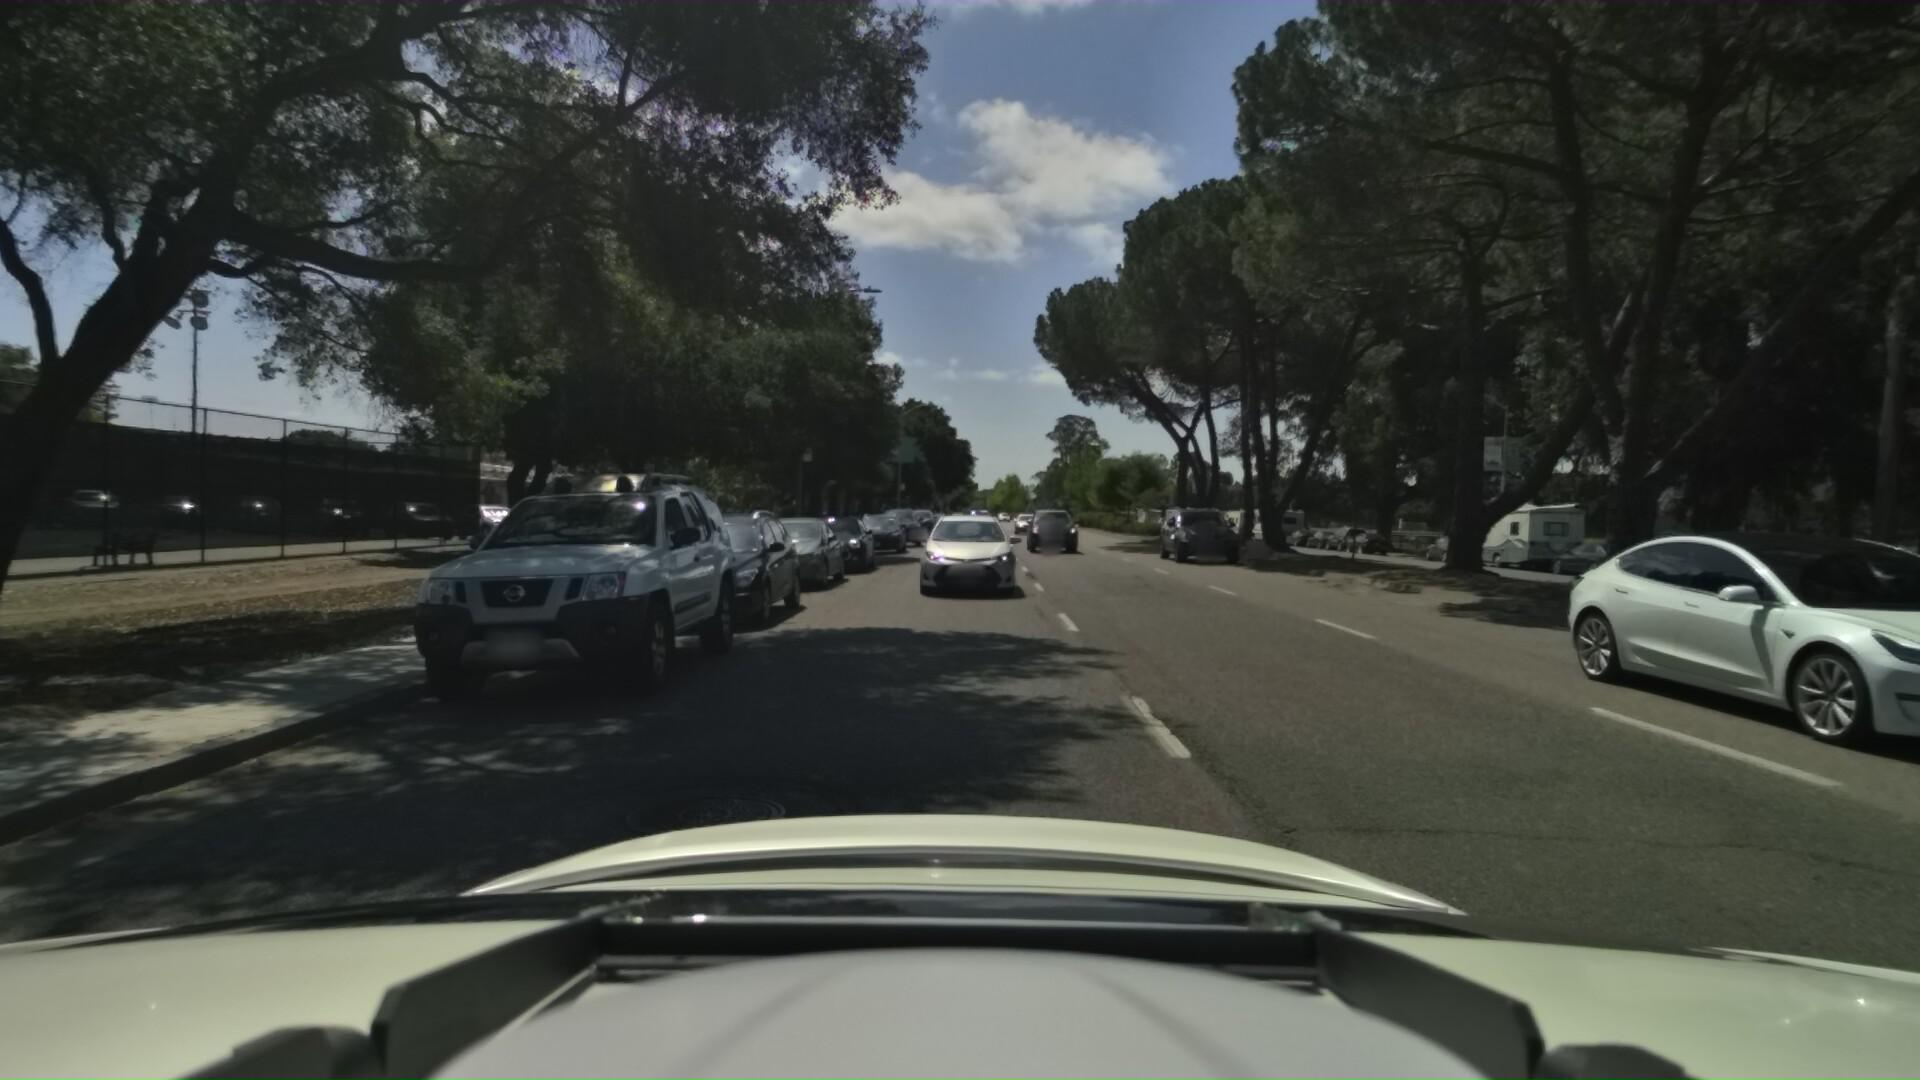car: (1472, 513, 1920, 752), (405, 454, 767, 717), (637, 502, 814, 636), (1749, 547, 1920, 615), (911, 508, 1021, 601), (735, 510, 852, 596), (795, 512, 880, 578), (1528, 535, 1643, 582), (1146, 500, 1232, 560), (848, 506, 911, 554), (916, 505, 969, 553), (1023, 504, 1077, 550), (1411, 529, 1474, 563), (877, 502, 926, 546), (1317, 521, 1365, 549), (1336, 527, 1385, 553), (902, 505, 938, 535), (1298, 526, 1342, 549), (1276, 524, 1317, 545), (1011, 506, 1040, 533)
other_vehicle: (1437, 496, 1584, 574)
